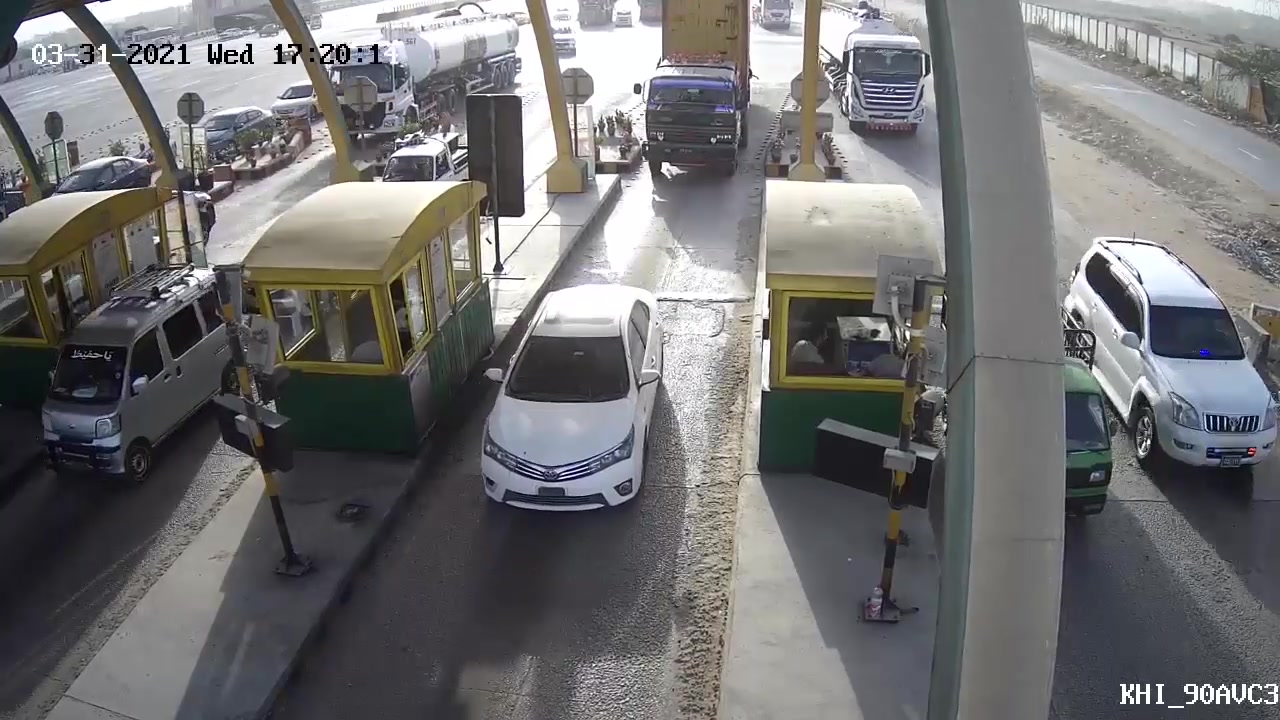F1: (472, 288, 660, 529)
